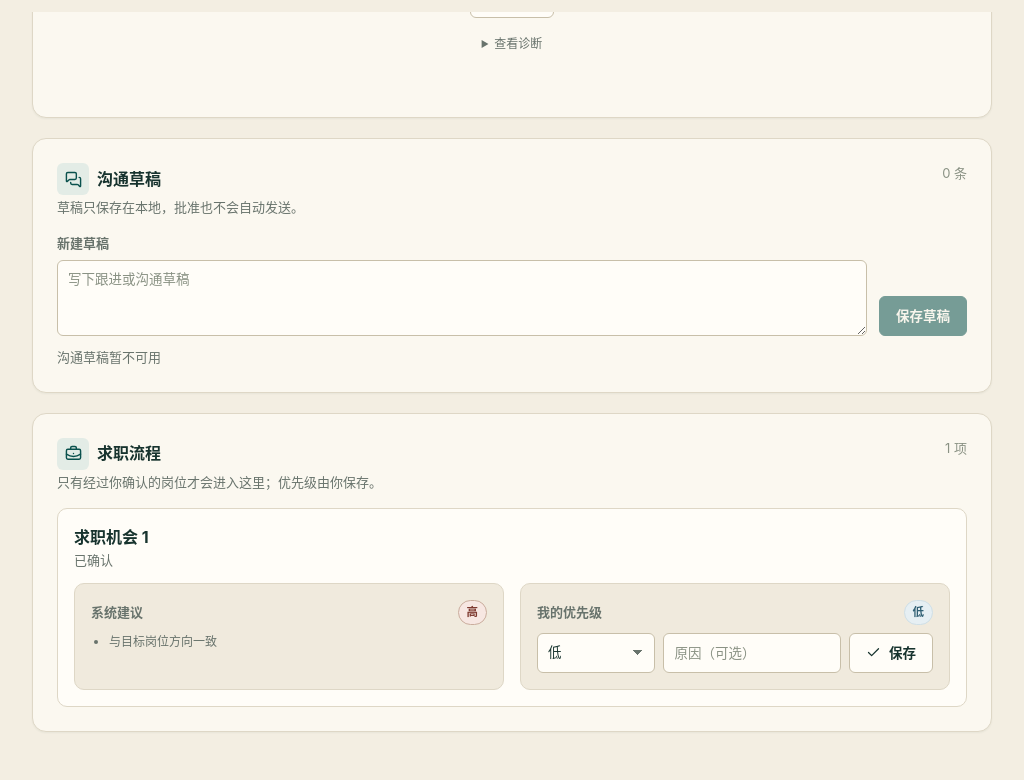
Scenario: OpportunitiesPage › 区分系统建议和用户优先级，并只由用户保存修改
(page scrolled)
expect the heading "系统建议" is shown: met, box [91,602,143,623]
expect the list item "与目标岗位方向一致" is shown: met, box [109,634,217,649]
Select "紧急" in the dropdown at x=596, y=653, box [537,633,655,673]
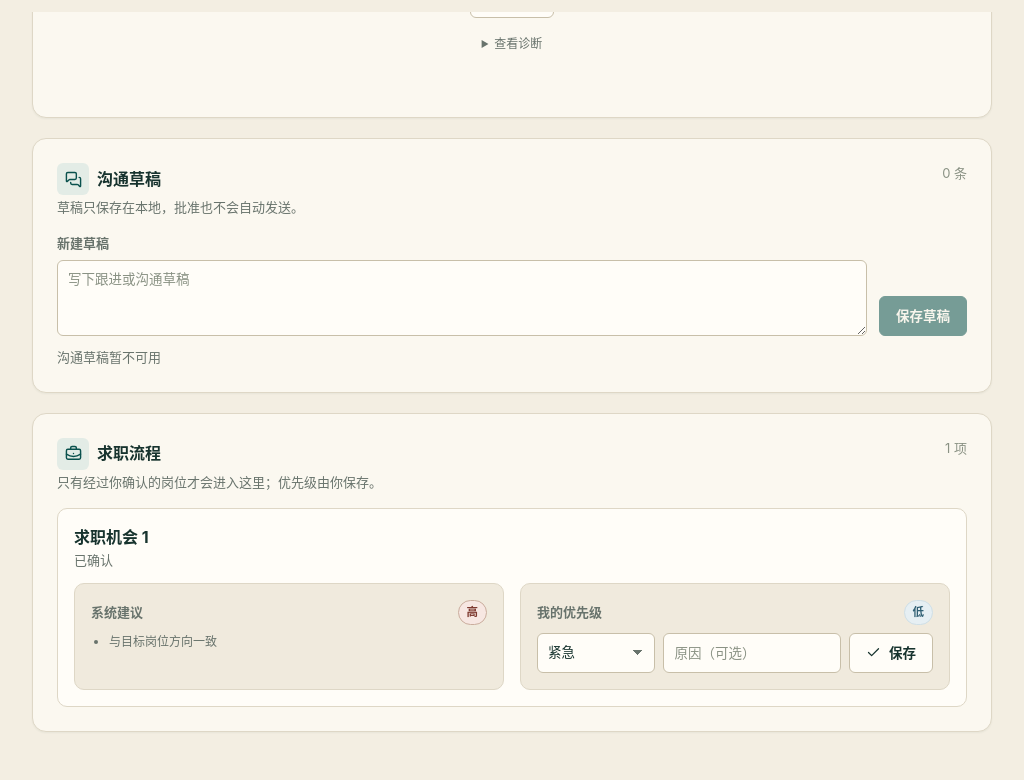
Click the button "保存".
click(891, 653)  # box [849,633,933,673]
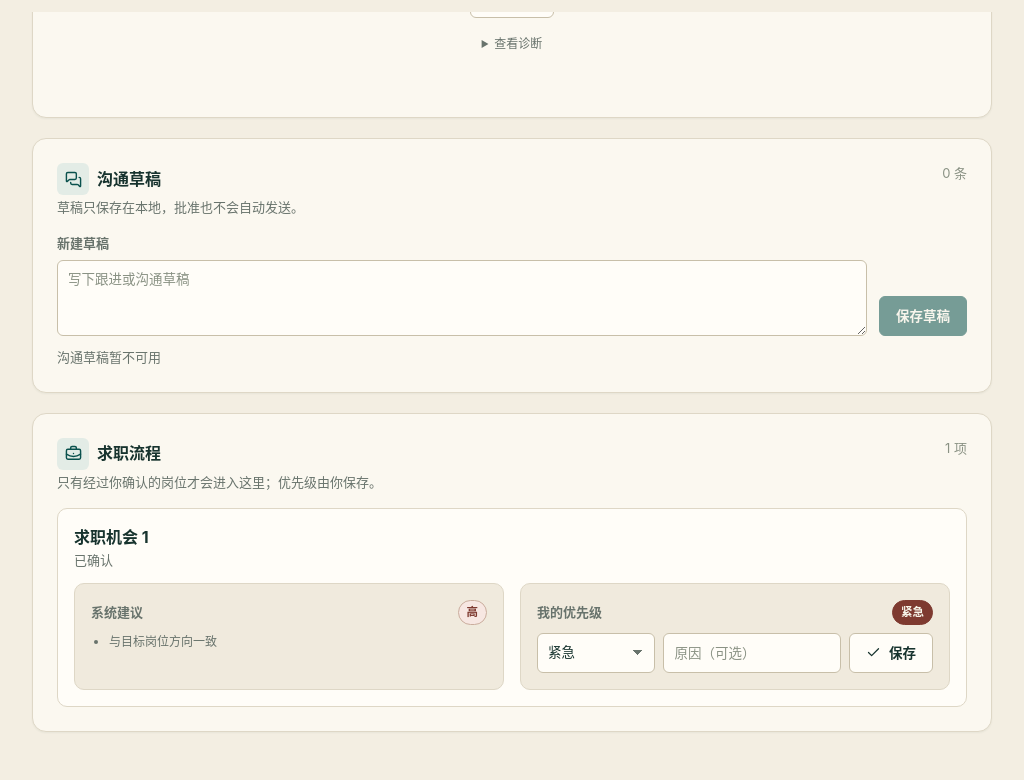
expect the text "高" is shown: met, box [458,600,487,625]
expect the text "紧急" is shown: met, box [892,600,933,625]
